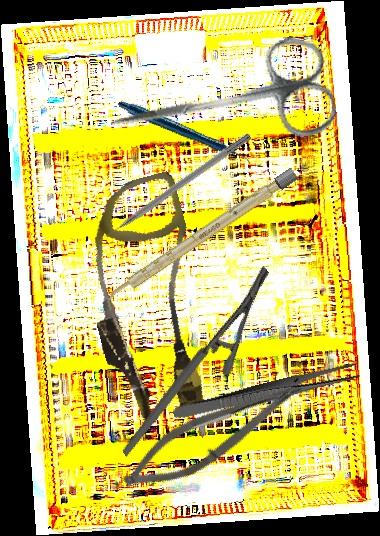Cannula: (62, 170, 233, 426)
Dressing Forceps: (171, 360, 362, 425)
Handpiece: (117, 60, 252, 209)
Iris Scissors: (102, 32, 340, 175)
Micro Scissor: (113, 358, 311, 509)
Needle Holder: (79, 265, 311, 457)
Pusher: (94, 130, 253, 246)
Scalpel Handle: (104, 167, 299, 305)
